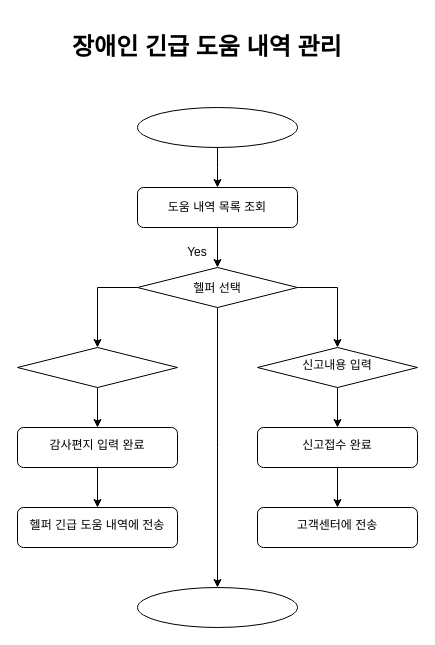
Some shapes in this 435 by 645 pixel diagram are drawn without their labels. Here are the shapes that lost their labels. From the top down, the centre of each, then its label:
At pixel 217 127: "장애인 긴급 도움 내역 시작".
At pixel 97 367: "감사편지 입력".
At pixel 217 607: "종료".
